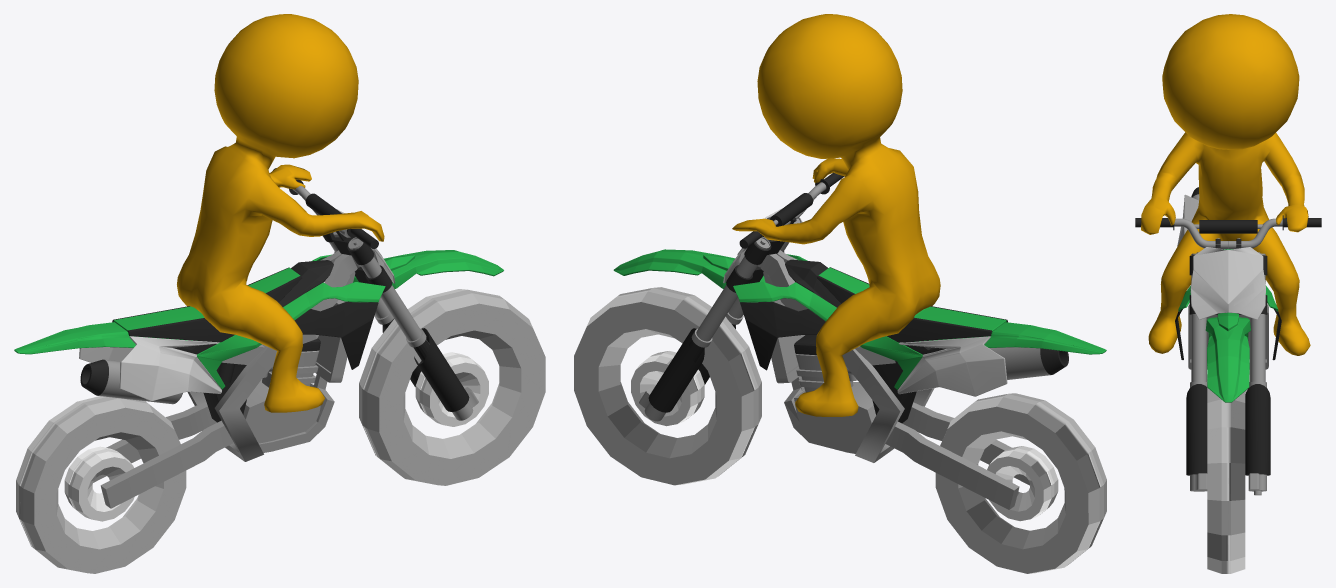
File: moto_2.fbx
3 views of the same model, side by side, from view 1: azimuth 30°, elevation 25°; view 2: azimuth 150°, elevation 25°; view 3: azimuth 270°, elevation 25° (orthographic). The views are drawn at different scales.
Parts seen in each view (by area): view 1: Stickman_heads_sphere1; view 2: Stickman_heads_sphere1; view 3: Stickman_heads_sphere1.
Boxes of the visible parts, left/top/right/bottom form: Stickman_heads_sphere1: left=14, top=14, right=545, bottom=573; Stickman_heads_sphere1: left=574, top=14, right=1106, bottom=573; Stickman_heads_sphere1: left=1135, top=14, right=1321, bottom=573.
Bounding box in the file's own units: 249 × 227 × 81.21.
